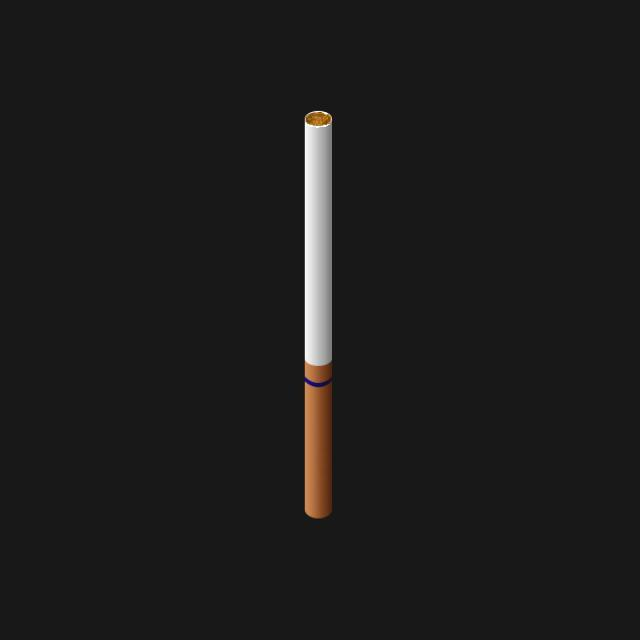cigarette: (302, 86, 341, 524)
